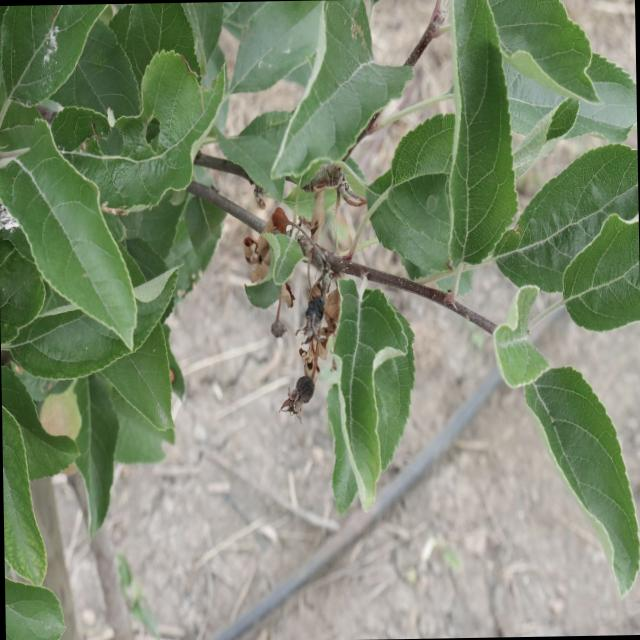-FireBlight-: (246, 190, 358, 376)
